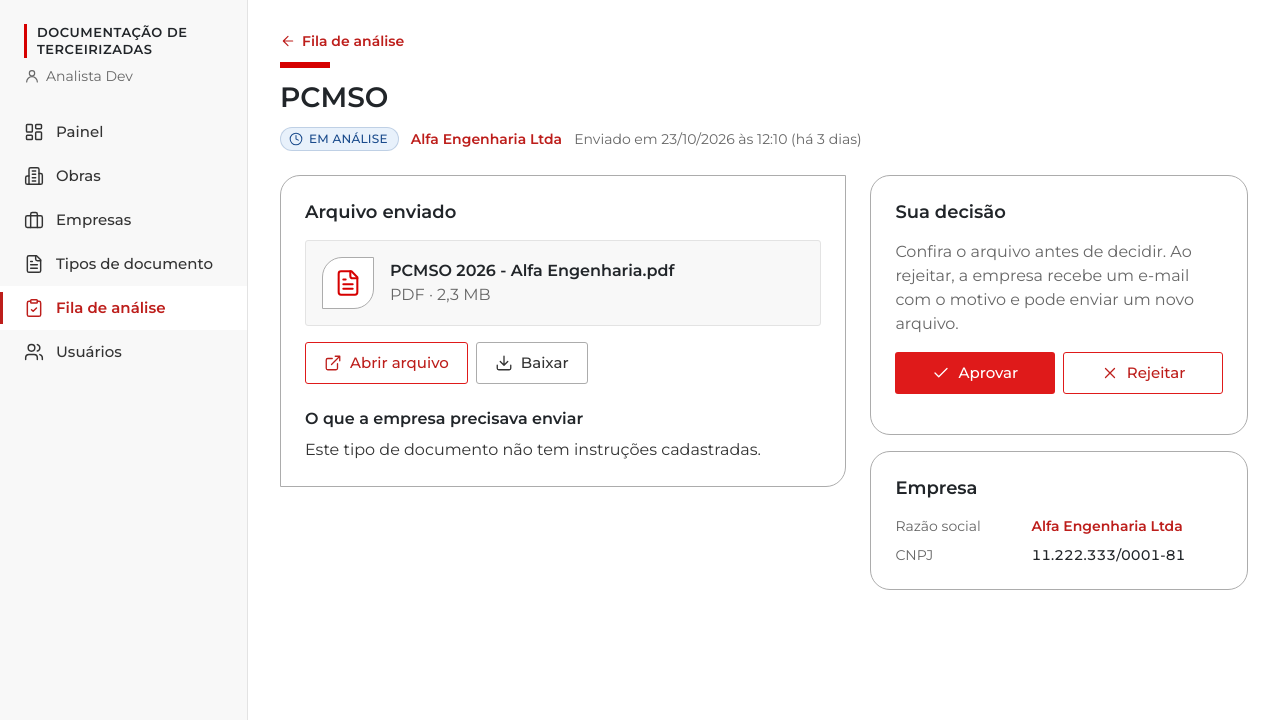
Test: Análise de um envio › rejeitar sem motivo é bloqueado no cliente
The width and height of the screenshot is (1280, 720).
expect the heading "PCMSO" is shown: met, box [280,80,388,114]
Click the button "Rejeitar" at (1143, 373), box [1063,352,1223,394]
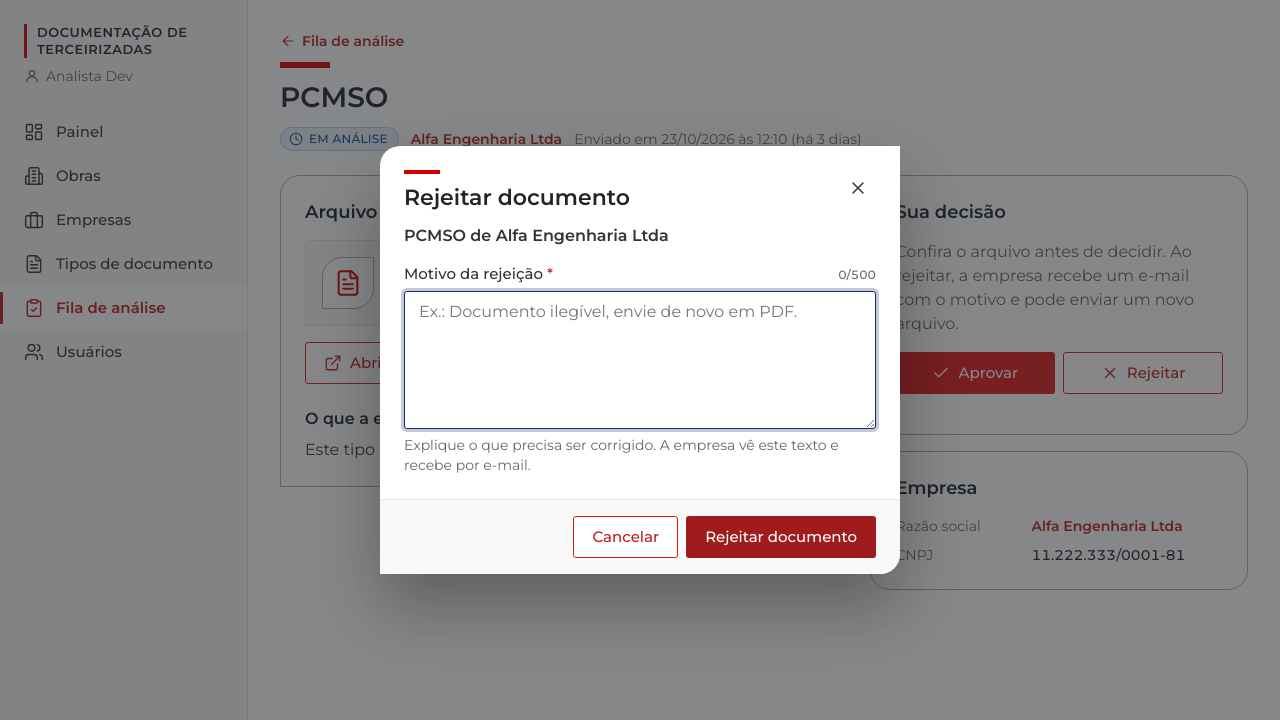
Type "ruim" into the text box labelled "Motivo da rejeição *" at (640, 360), box [404,291,876,429]
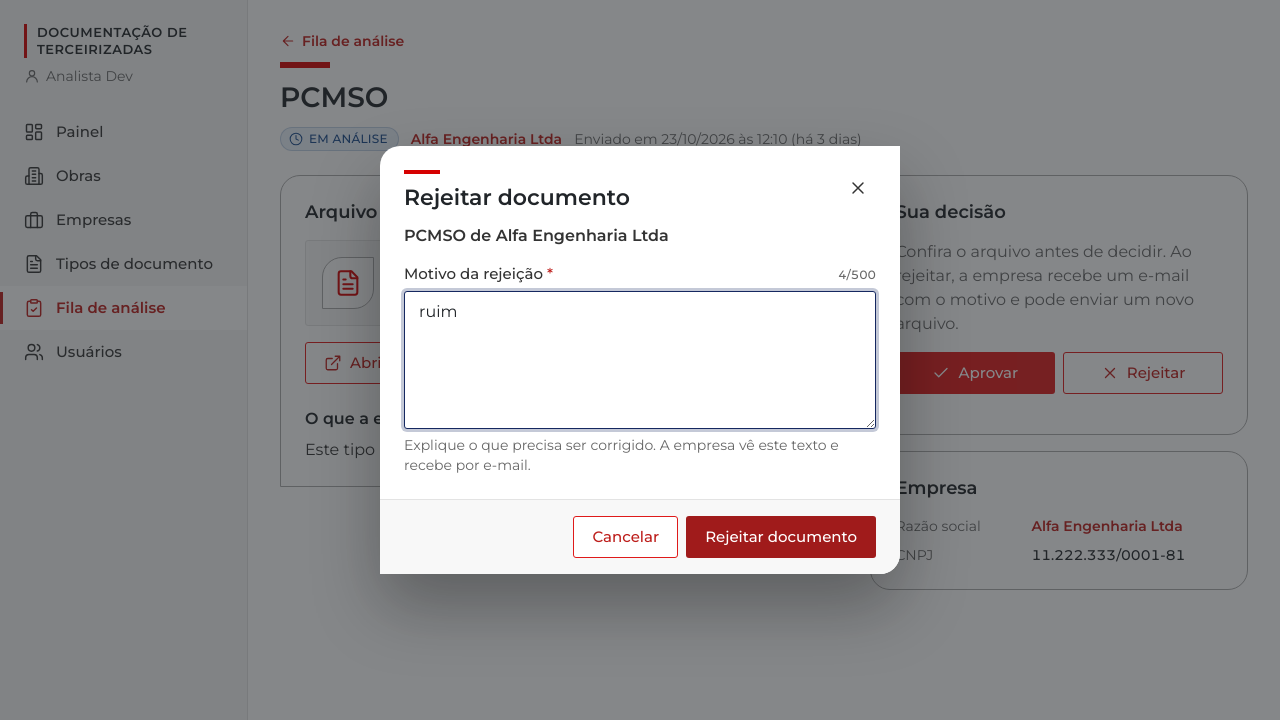
Click the button "Rejeitar documento" at (781, 537), box [686,516,876,558]
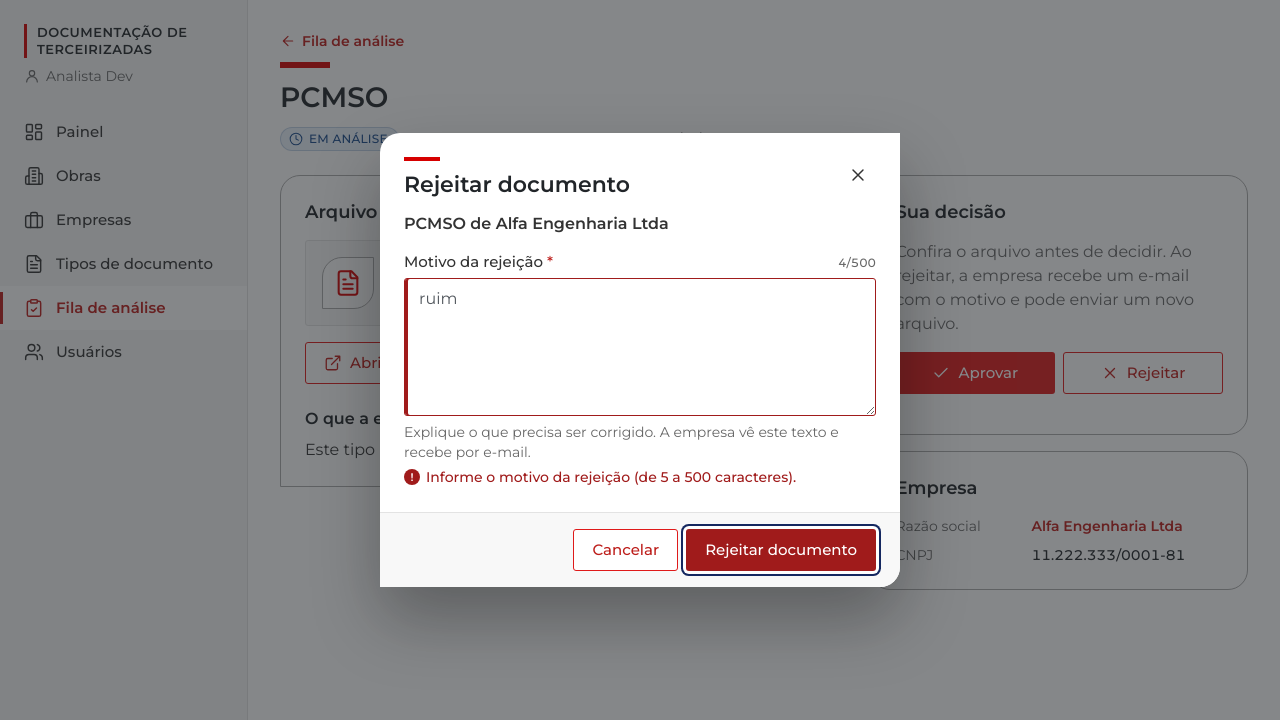
expect the text "Informe o motivo da rejeição (de 5 a 500 caracteres)." is shown: met, box [426,468,796,486]
